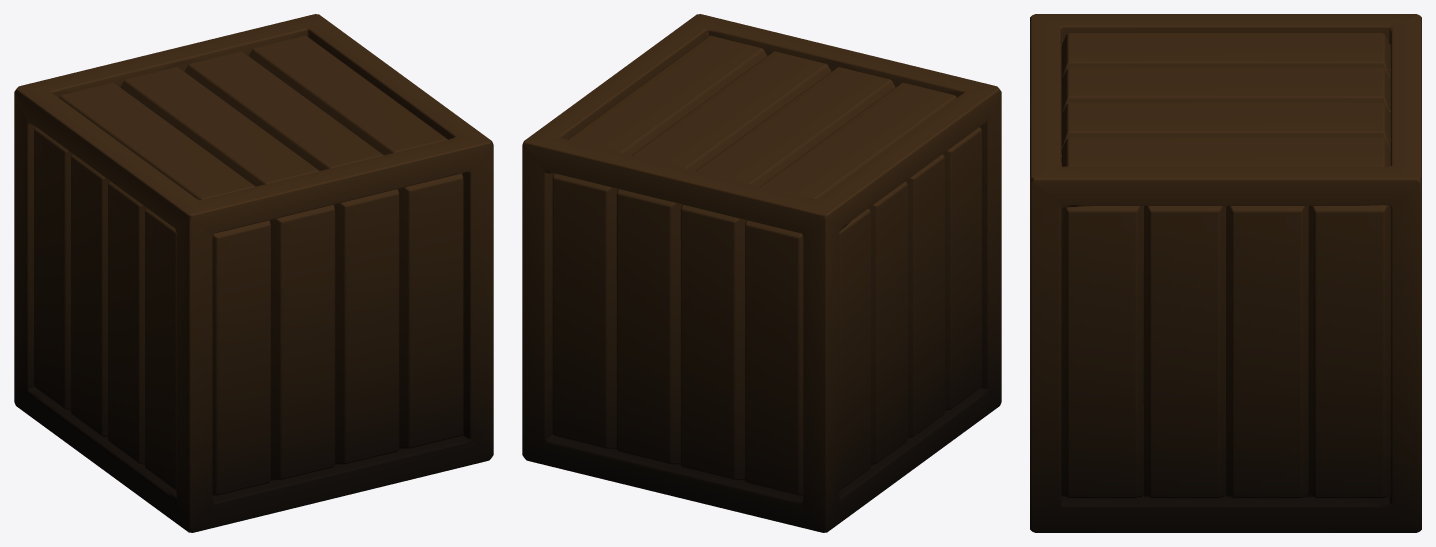
Rendered from SM_Props_Caisse_01.fbx.
3 renders of one model, left to right at view 1: azimuth 30°, elevation 25°; view 2: azimuth 150°, elevation 25°; view 3: azimuth 270°, elevation 25°, orthographic. The views are drawn at different scales.
Visible parts, largest first — view 1: transform14; view 2: transform14; view 3: transform14.
Boxes of the visible parts, bbox=[...] form: transform14: bbox=[14, 14, 493, 532]; transform14: bbox=[522, 14, 1001, 532]; transform14: bbox=[1030, 14, 1421, 532].
Size of the model in its own units: 44.12 by 44.12 by 44.12.
